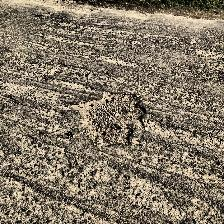pothole: (69, 91, 147, 149)
